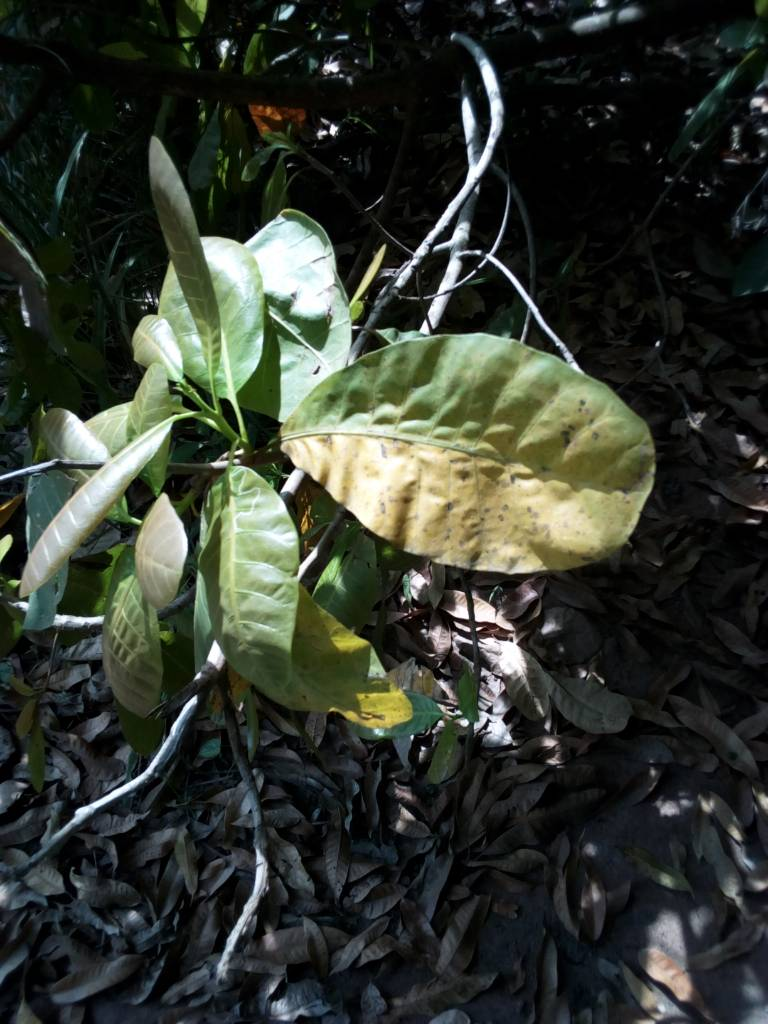Bactériose: (280, 336, 661, 572)
